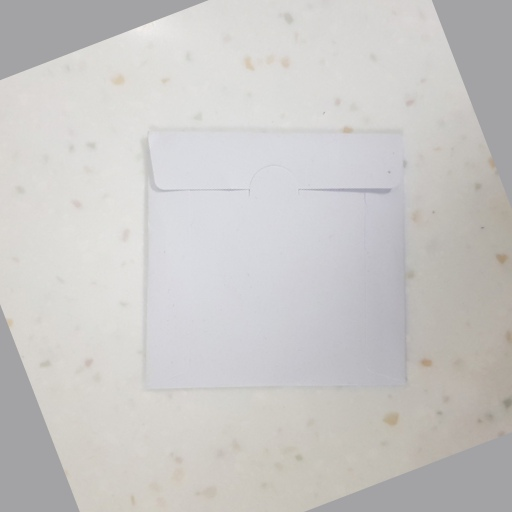Paper_2: (137, 121, 422, 393)
